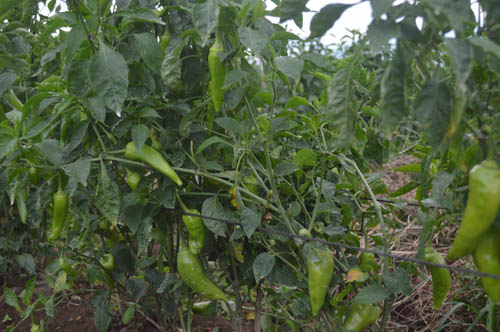ChiliPepper: (449, 162, 499, 270), (175, 251, 234, 309), (123, 144, 188, 184), (302, 249, 334, 319), (420, 251, 452, 310), (205, 43, 226, 110), (47, 191, 71, 248), (476, 240, 500, 293), (180, 213, 206, 255), (344, 303, 377, 328)
